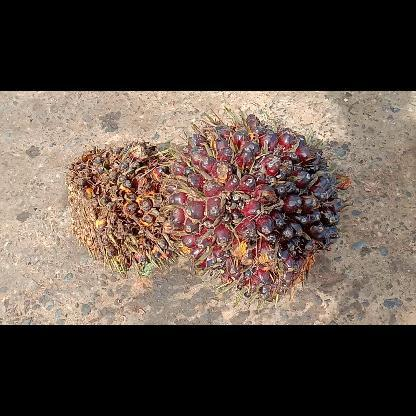Kurang masak: (158, 106, 343, 312)
TBS abnormal: (65, 141, 187, 279)
